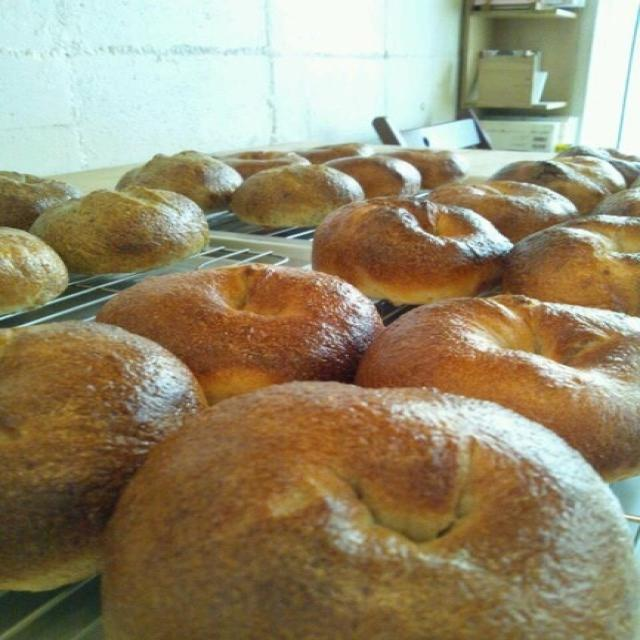面包点心: (3, 29, 625, 629)
